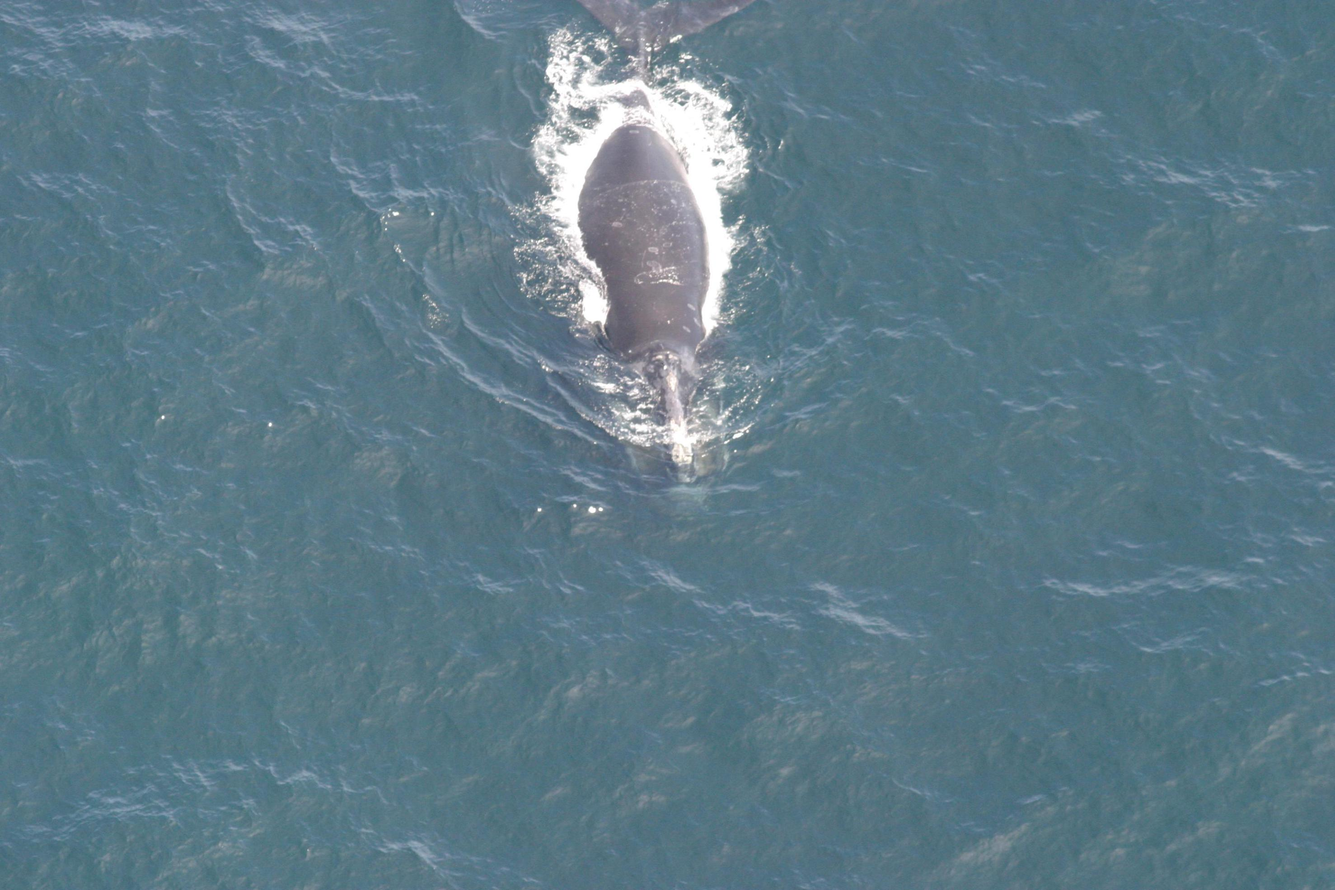whale: (544, 0, 808, 533)
